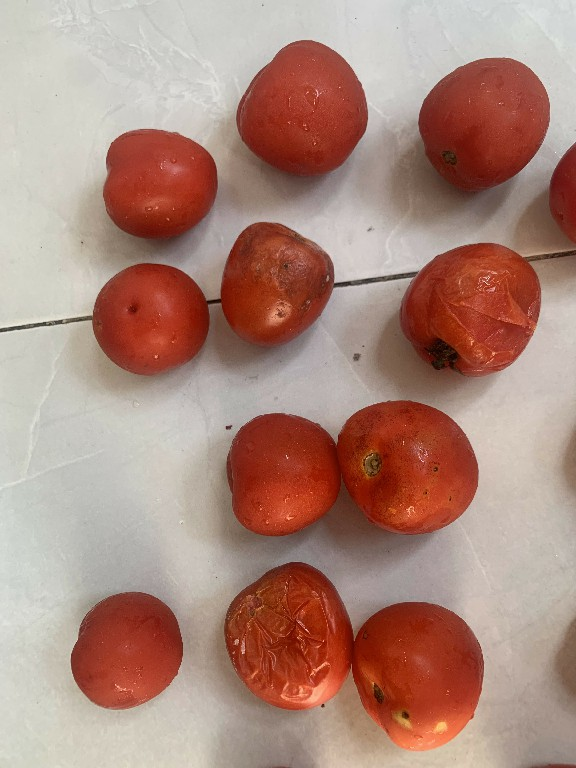NG: (351, 589, 493, 756), (391, 228, 548, 379), (335, 390, 484, 543), (222, 557, 352, 724), (218, 205, 338, 353)
OK: (222, 29, 386, 184), (412, 49, 557, 193), (59, 578, 195, 719), (210, 404, 340, 542), (83, 254, 218, 382), (95, 113, 219, 242)
